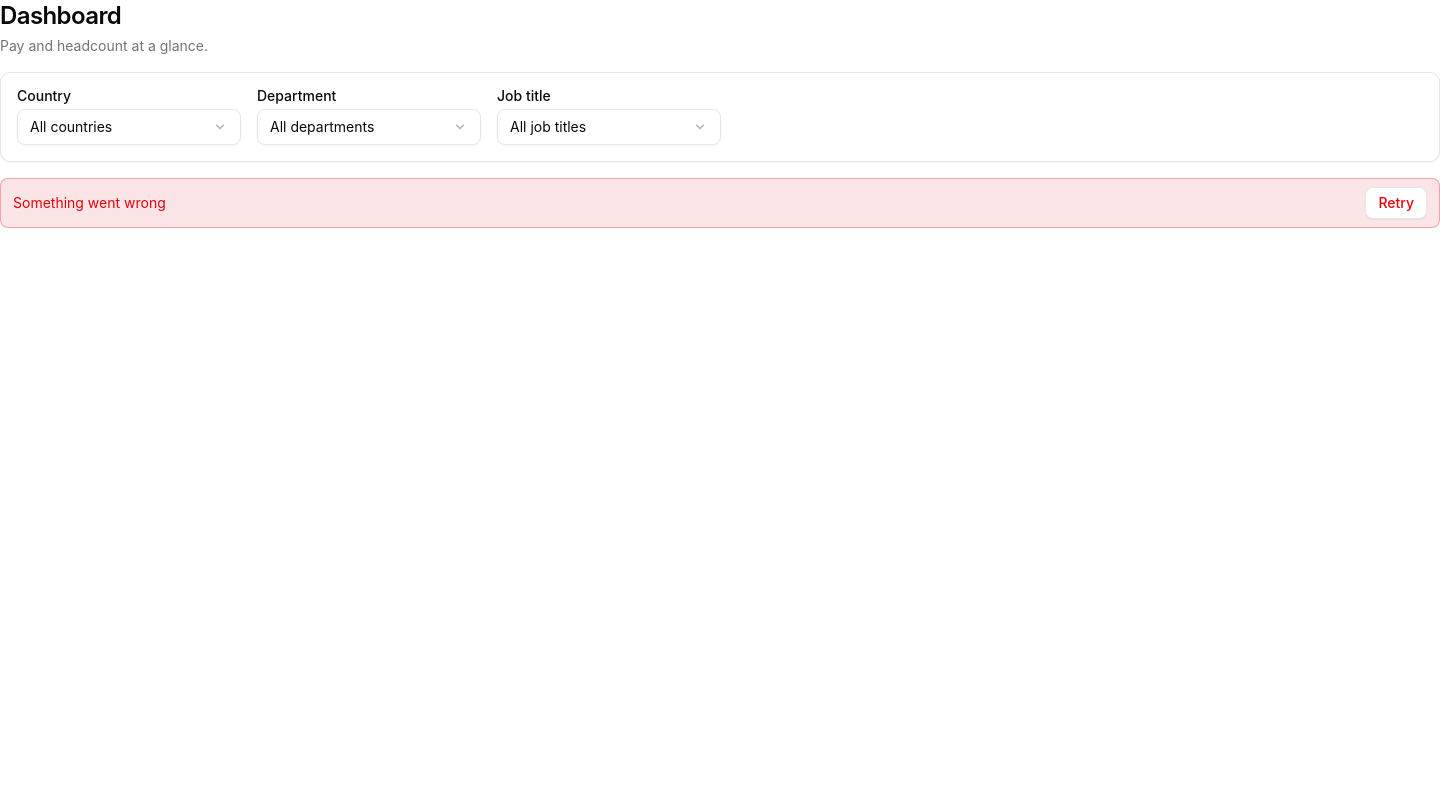
DashboardPage › shows the error and loads again on Retry
This screenshot has width=1440, height=798.
Click the button "Retry".
click(1396, 203)  # box [1365,187,1427,219]
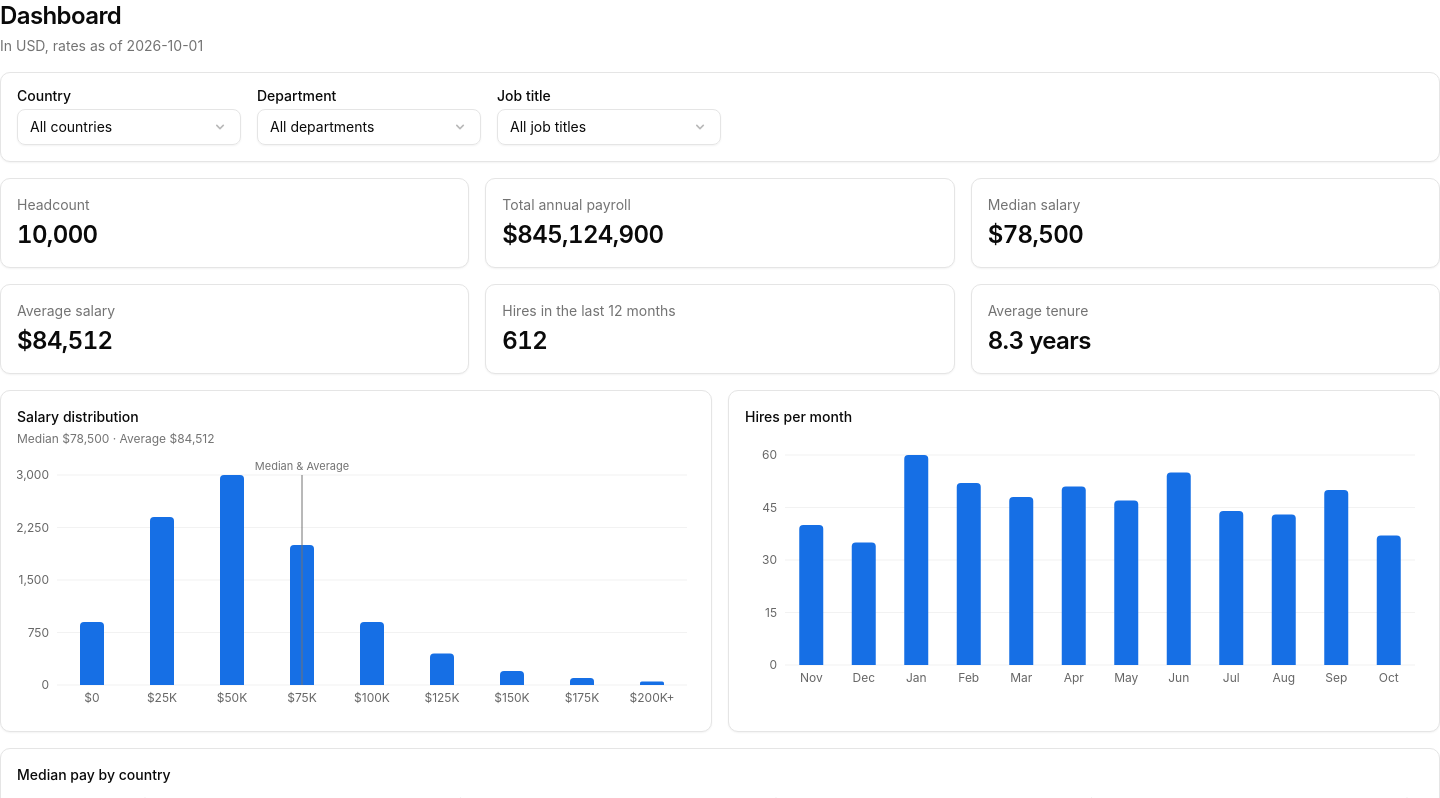
expect the text "Headcount" is shown: met, box [17,196,90,213]
